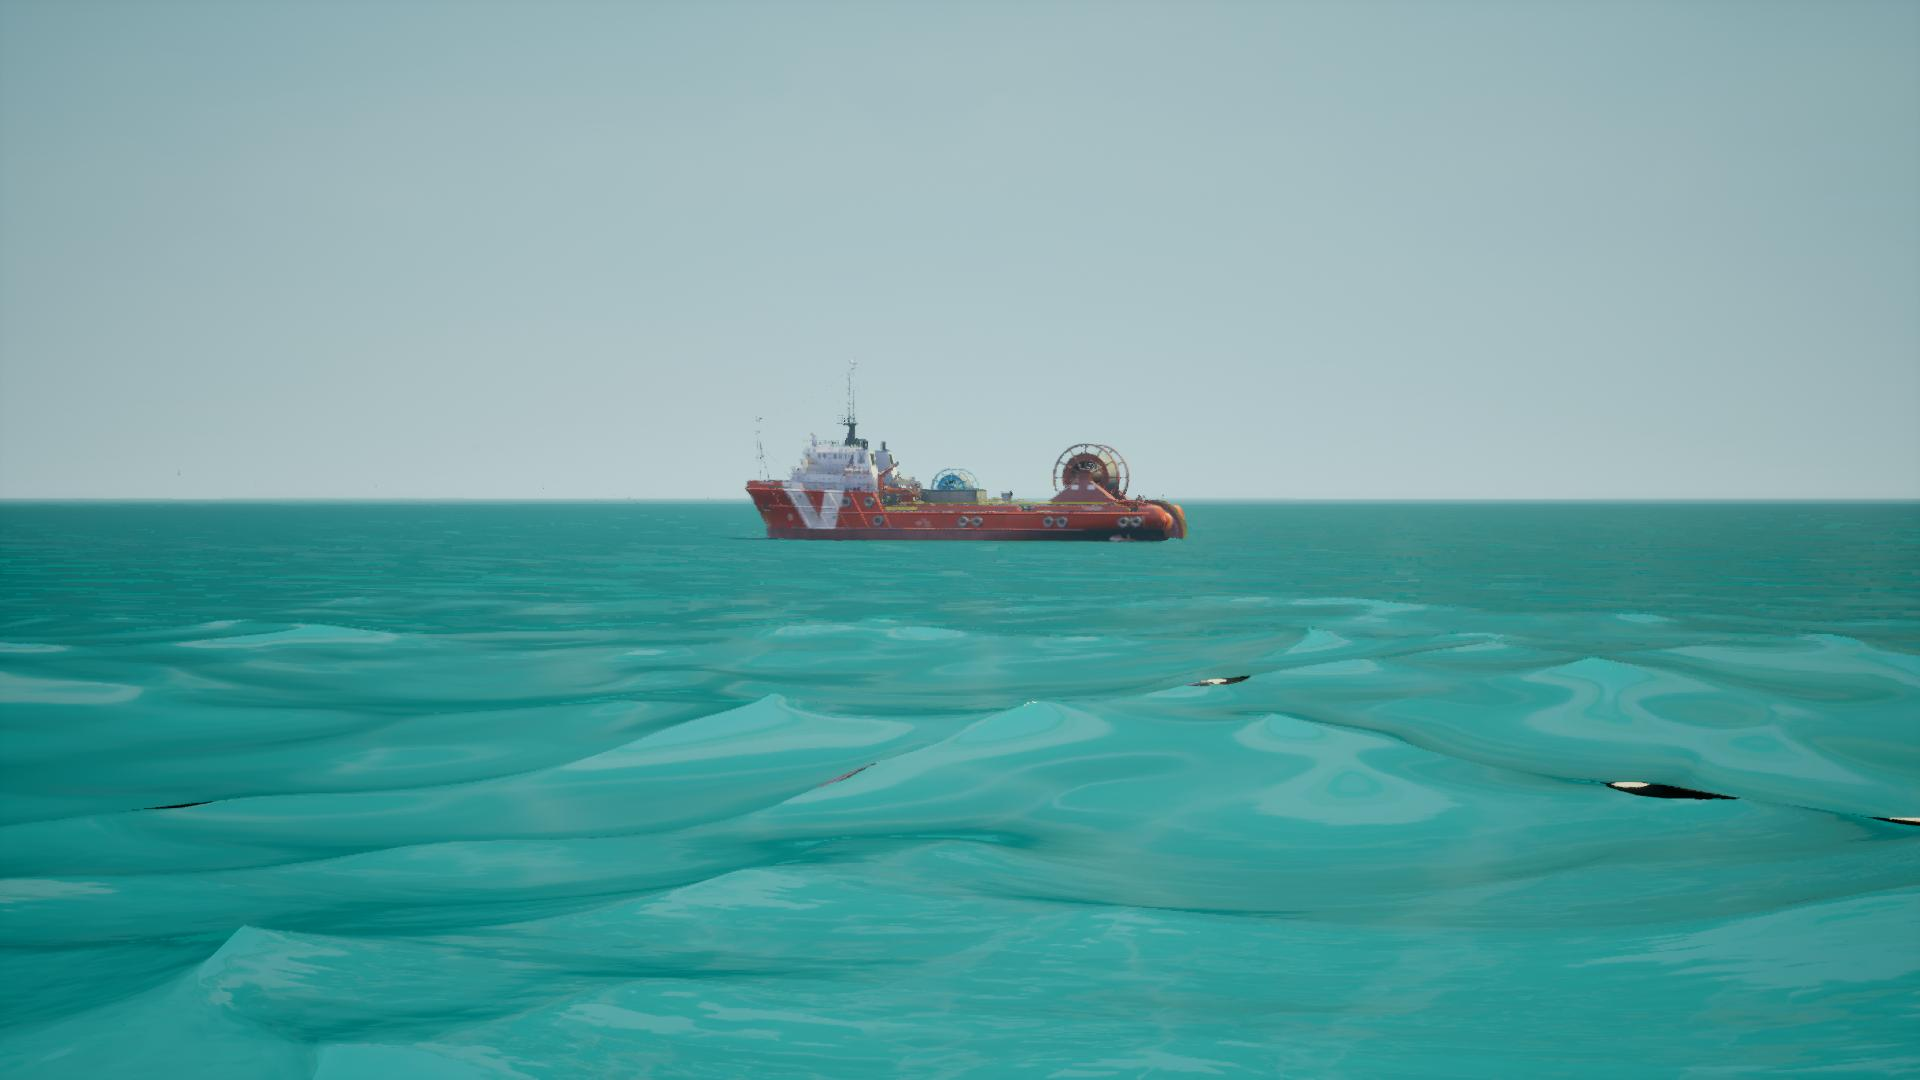Tug Boat: (746, 363, 1183, 546)
